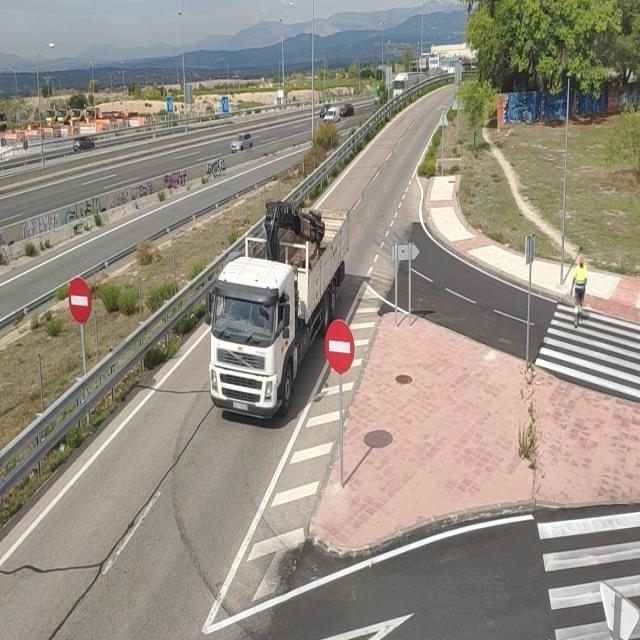Car: (231, 131, 253, 153), (73, 136, 94, 154)
Truck: (205, 197, 352, 426), (392, 70, 427, 100)
Van: (324, 107, 340, 125)
